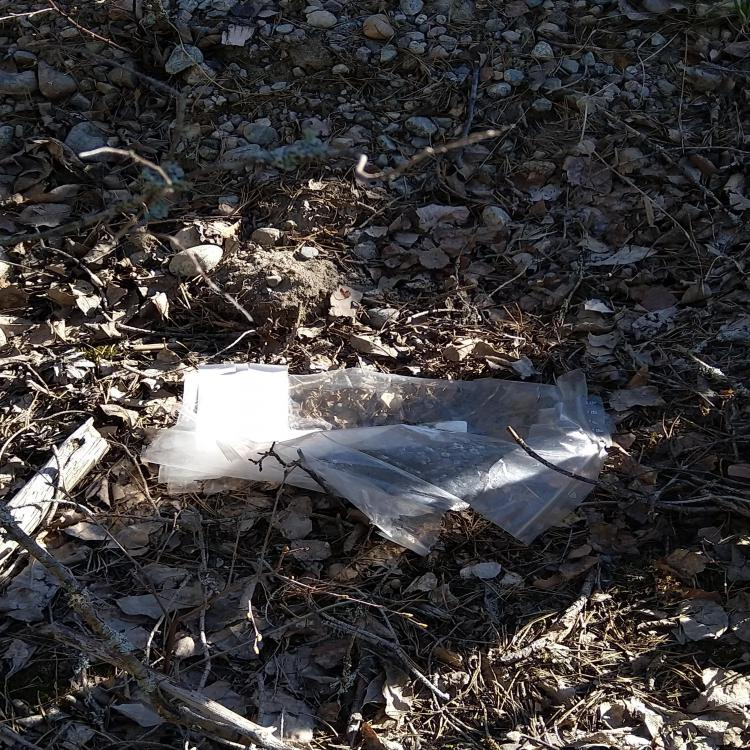Plastic film: (140, 364, 612, 556)
